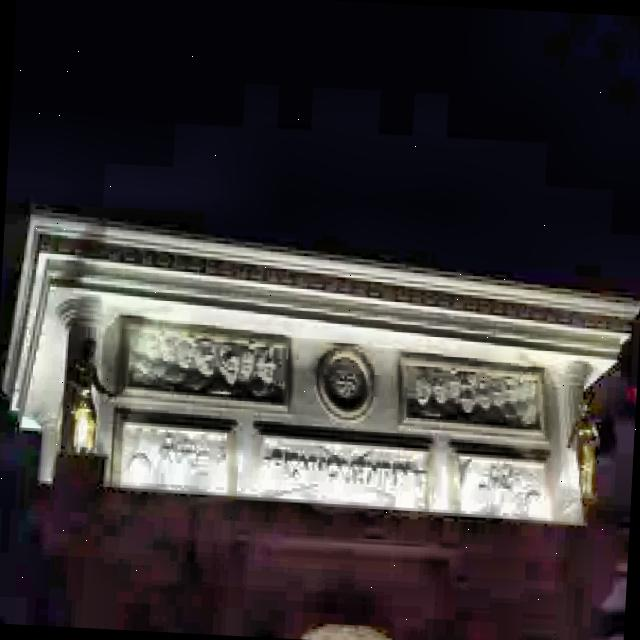triumphal arch: (0, 249, 640, 640)
